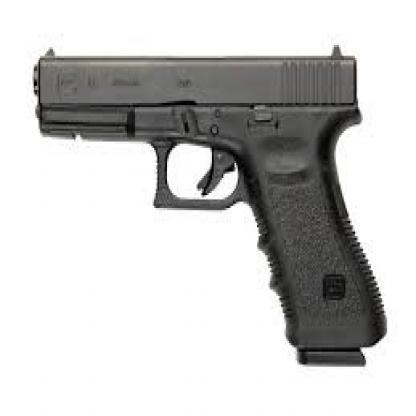Pistol: (27, 34, 388, 370)
